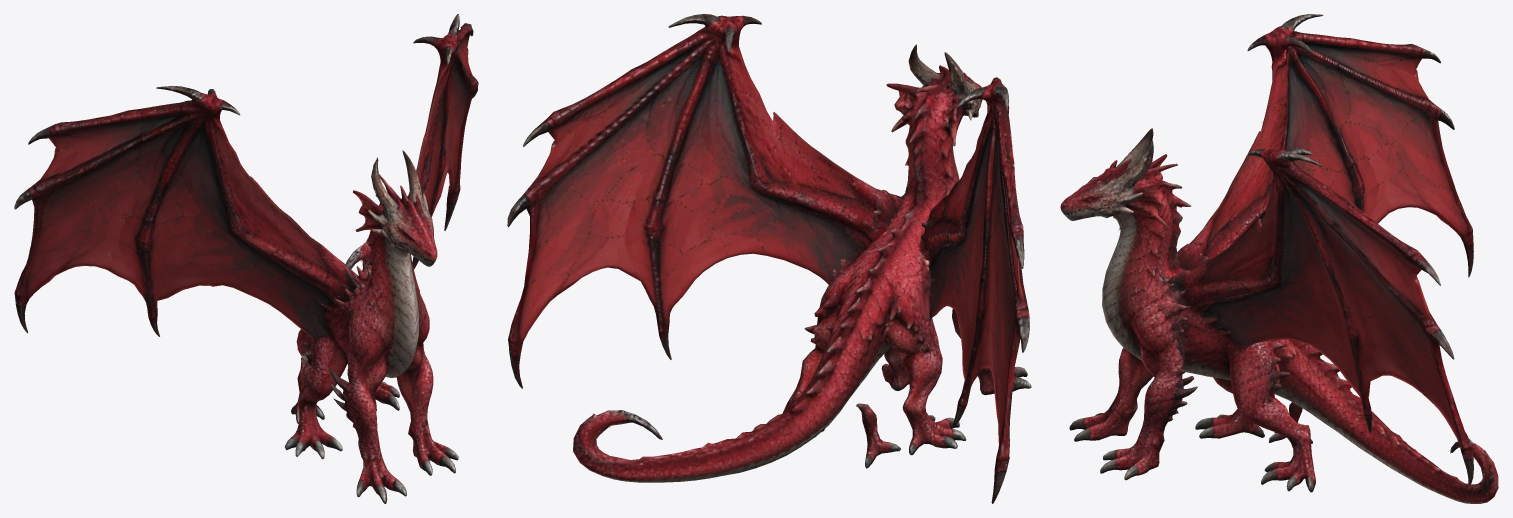
3 renders of one model, left to right at view 1: azimuth 30°, elevation 25°; view 2: azimuth 150°, elevation 25°; view 3: azimuth 270°, elevation 25°, orthographic. The views are drawn at different scales.
Visible parts, largest first — view 1: tripo_node_d4ccdae6-2b89-4ecd-83ee-15df08bc3ae2; view 2: tripo_node_d4ccdae6-2b89-4ecd-83ee-15df08bc3ae2; view 3: tripo_node_d4ccdae6-2b89-4ecd-83ee-15df08bc3ae2.
Part boxes in pixels (bbox=[...]): tripo_node_d4ccdae6-2b89-4ecd-83ee-15df08bc3ae2: bbox=[14, 14, 478, 503]; tripo_node_d4ccdae6-2b89-4ecd-83ee-15df08bc3ae2: bbox=[507, 14, 1031, 503]; tripo_node_d4ccdae6-2b89-4ecd-83ee-15df08bc3ae2: bbox=[1060, 14, 1498, 503].
Size of the model in its own units: 0.9794 by 0.7345 by 0.7848.
1 material, 1 textured.
